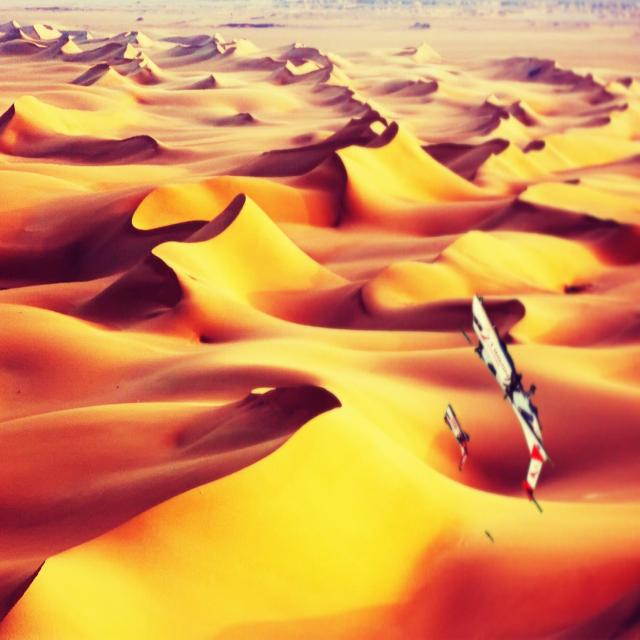airplane: (458, 292, 554, 513)
